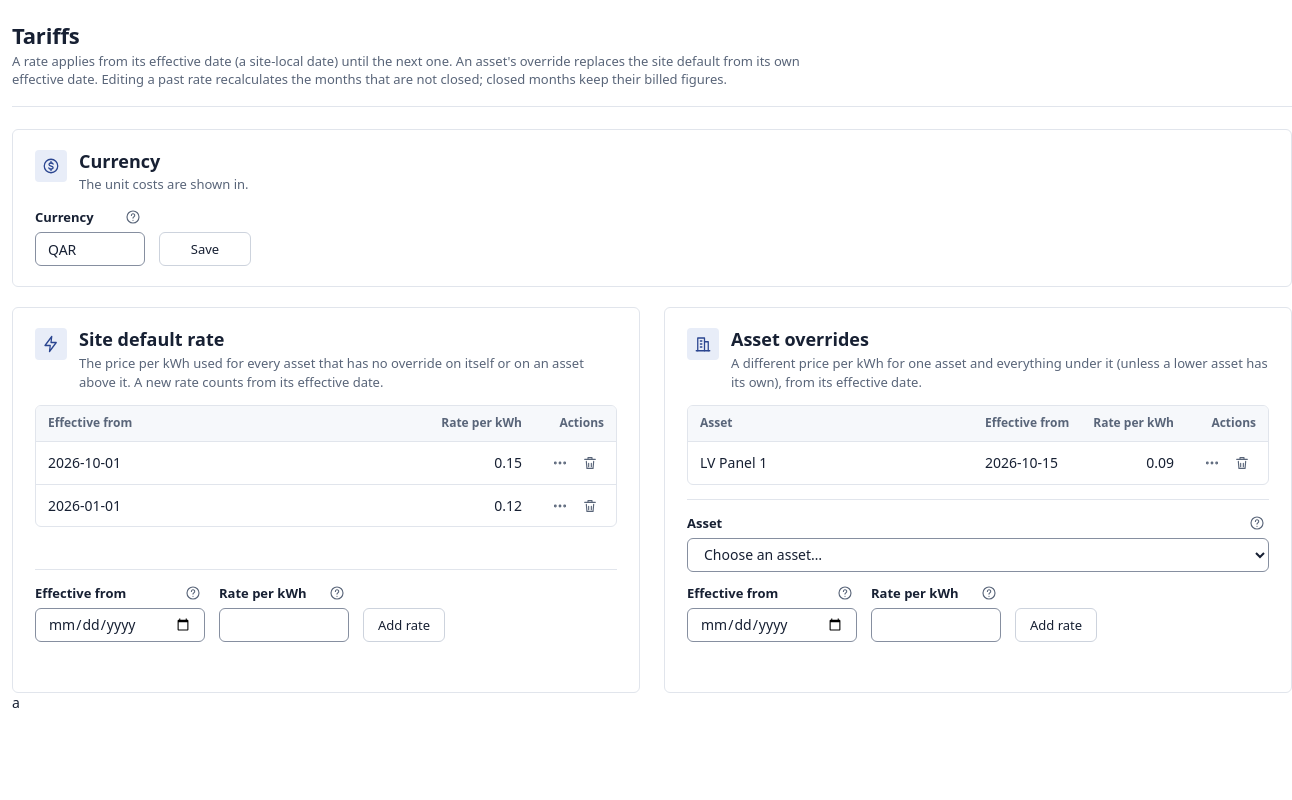
Test: TariffsPage › gives each rate a three-dot menu (Edit only) and a trash button, and has at most one primary button
Expected: the button "Edit" is not shown
What coordinates should you click on to do the following:
click the button named "Actions for rate from 2026-10-01 (site default)"
I would click on:
 (560, 463)
Its box is [546,449,574,477].
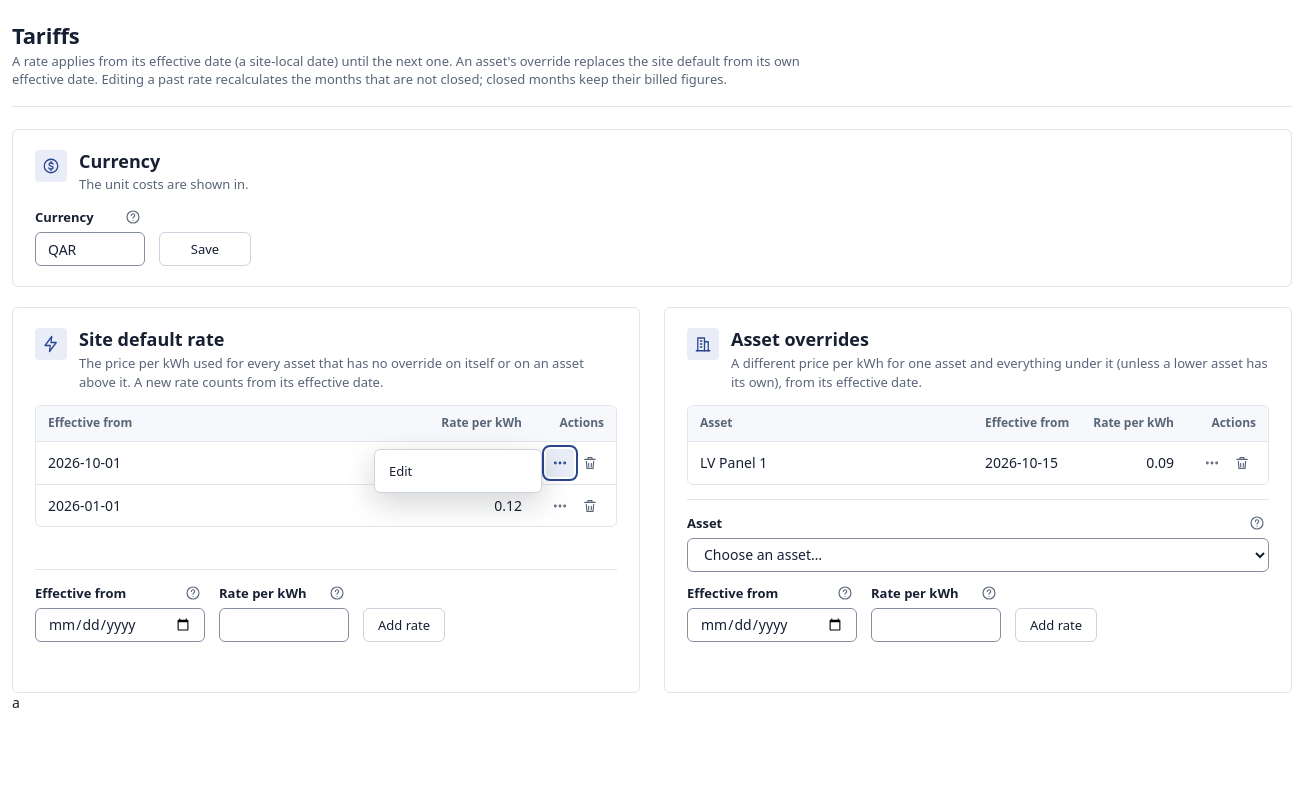
Expected: the number of buttons "Add rate" is 2, [363,608,445,642]; [1015,608,1097,642]
Expected: the menu items read "Edit", in this order, [379,454,537,488]
